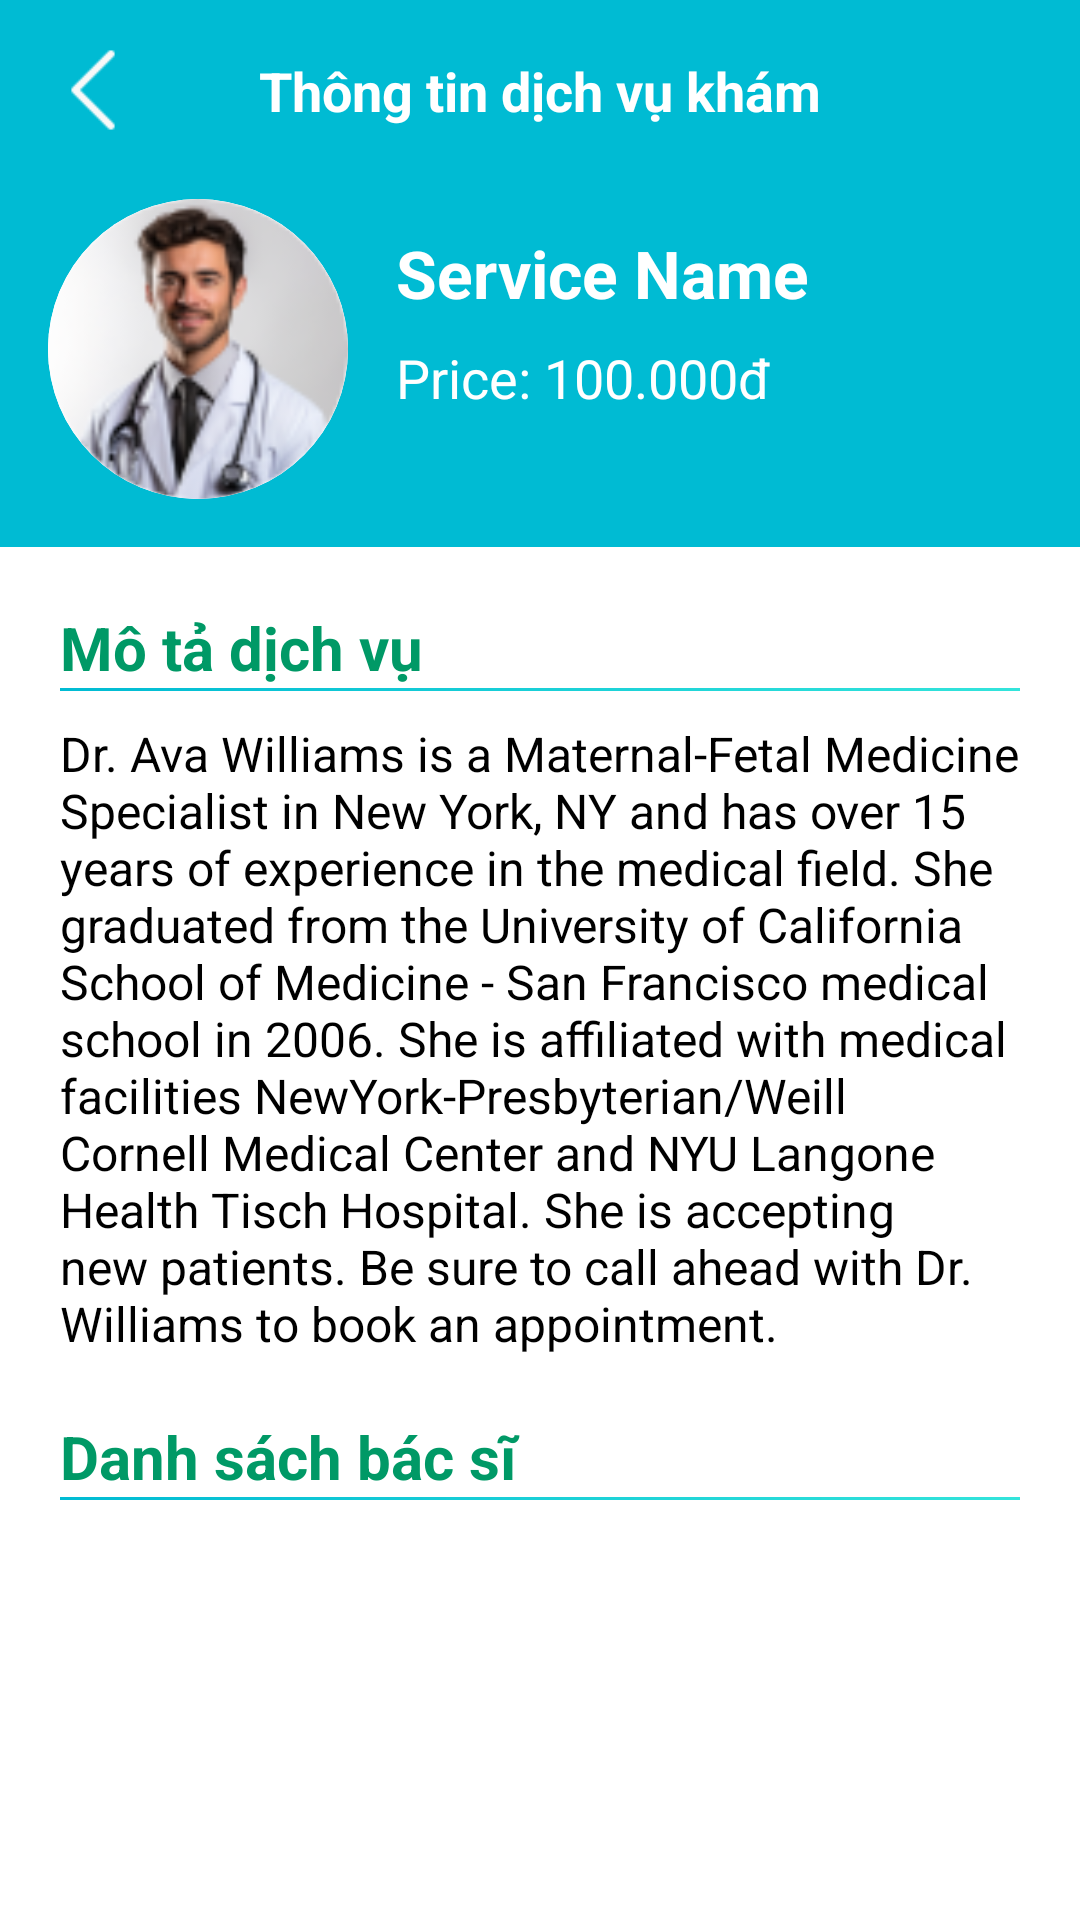

Icons on this 1080px×1920px Android screen, each with its box as [x1,y1,x2,y2]:
back: [71,50,115,130]
nam: [48,199,348,499]
